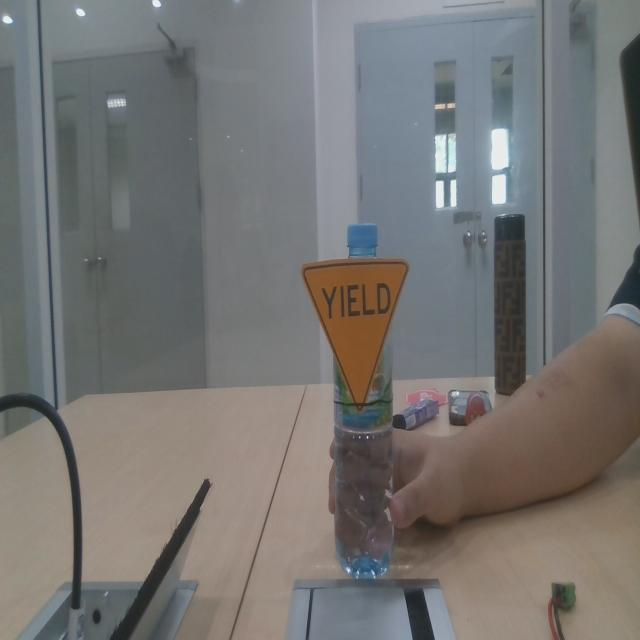Yield: (302, 246, 416, 433)
